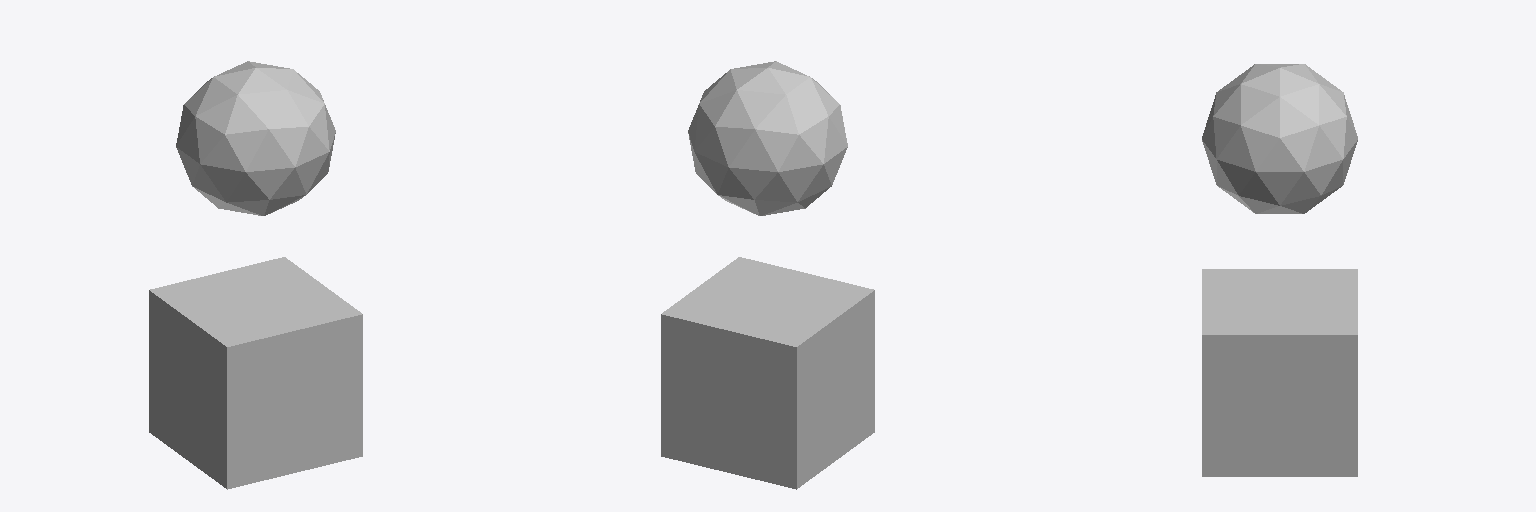
Rendered from Area.obj.
3 renders of one model, left to right at view 1: azimuth 30°, elevation 25°; view 2: azimuth 150°, elevation 25°; view 3: azimuth 270°, elevation 25°, orthographic.
Visible parts, largest first — view 1: Cube_Cube.001, Icosphere; view 2: Cube_Cube.001, Icosphere; view 3: Cube_Cube.001, Icosphere.
Boxes of the visible parts, box(x1,y1,x2,y2) form: Cube_Cube.001: box(149, 257, 362, 489); Icosphere: box(176, 61, 335, 215); Cube_Cube.001: box(661, 257, 874, 489); Icosphere: box(688, 61, 847, 215); Cube_Cube.001: box(1202, 269, 1357, 476); Icosphere: box(1202, 64, 1357, 213).
Bounding box in the file's own units: 100 × 265 × 100.